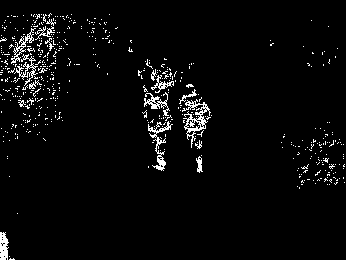person: (179, 84, 212, 173), (144, 90, 175, 172), (156, 55, 174, 91), (141, 56, 156, 90)
